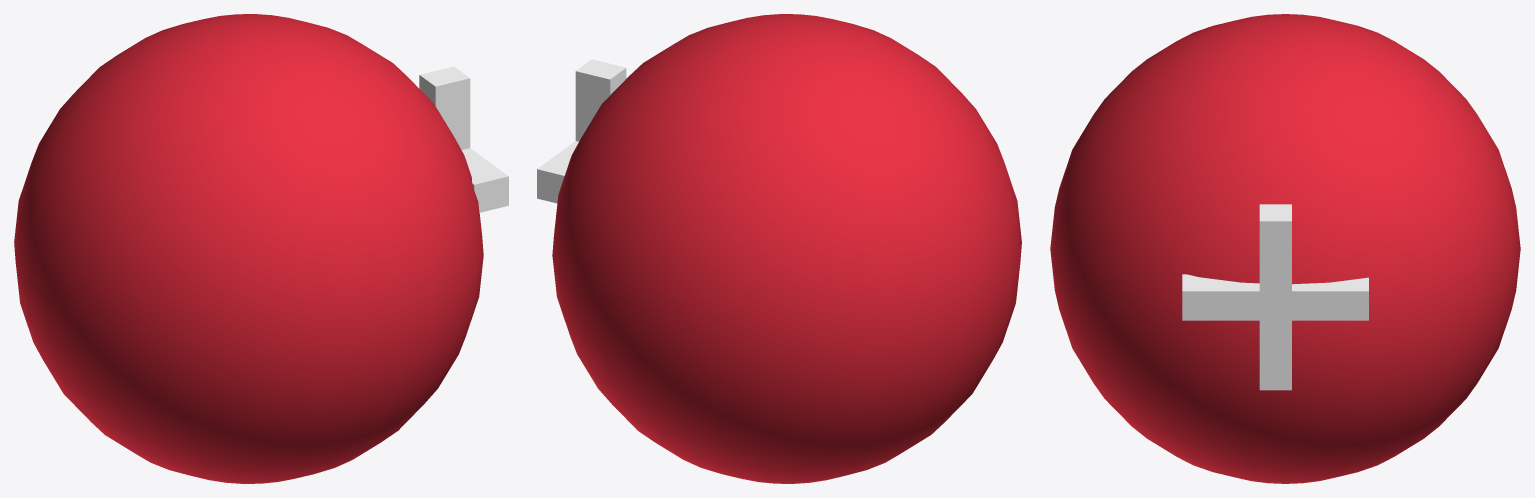
Rendered from proton.gltf.
The picture shows the model from 3 angles, left to right: view 1: azimuth 30°, elevation 25°; view 2: azimuth 150°, elevation 25°; view 3: azimuth 270°, elevation 25°; orthographic projection.
Visible parts, largest first — view 1: Text; view 2: Text; view 3: Text.
Part boxes in pixels (x1,y1,x2,y2): Text: (14,14,508,483); Text: (537,14,1021,483); Text: (1050,14,1520,483).
Bounding box in the file's own units: 2.02 × 2 × 2.
